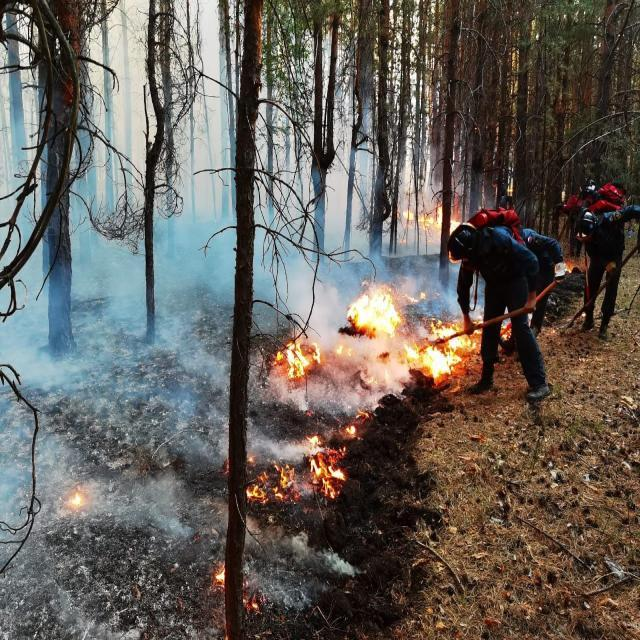Fire: (347, 278, 481, 390), (245, 436, 347, 508), (275, 332, 318, 380), (403, 203, 461, 234)
Smoke: (0, 95, 458, 640)
